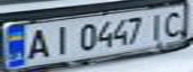0: (75, 20, 100, 52)
4: (93, 17, 115, 48), (112, 16, 133, 47)
7: (124, 14, 148, 44)
A: (21, 26, 54, 61)
C: (160, 7, 190, 37)
I: (45, 22, 72, 56), (145, 10, 172, 39)
